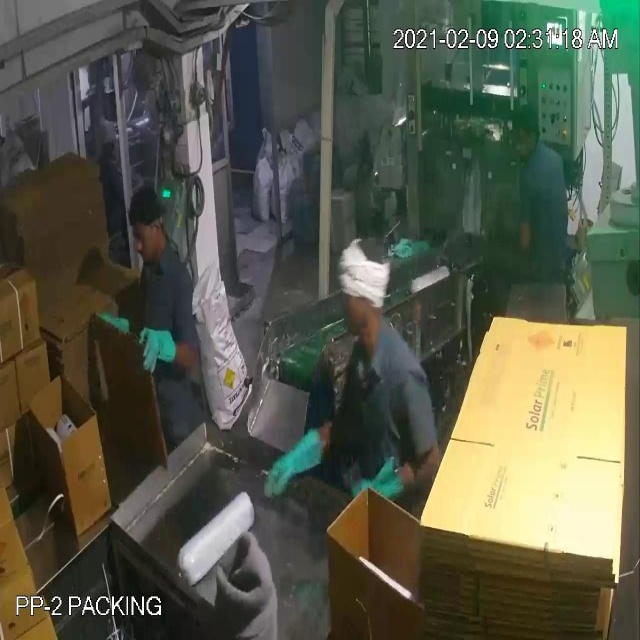Guantes: (261, 420, 329, 507), (340, 459, 418, 533), (130, 316, 185, 388)
